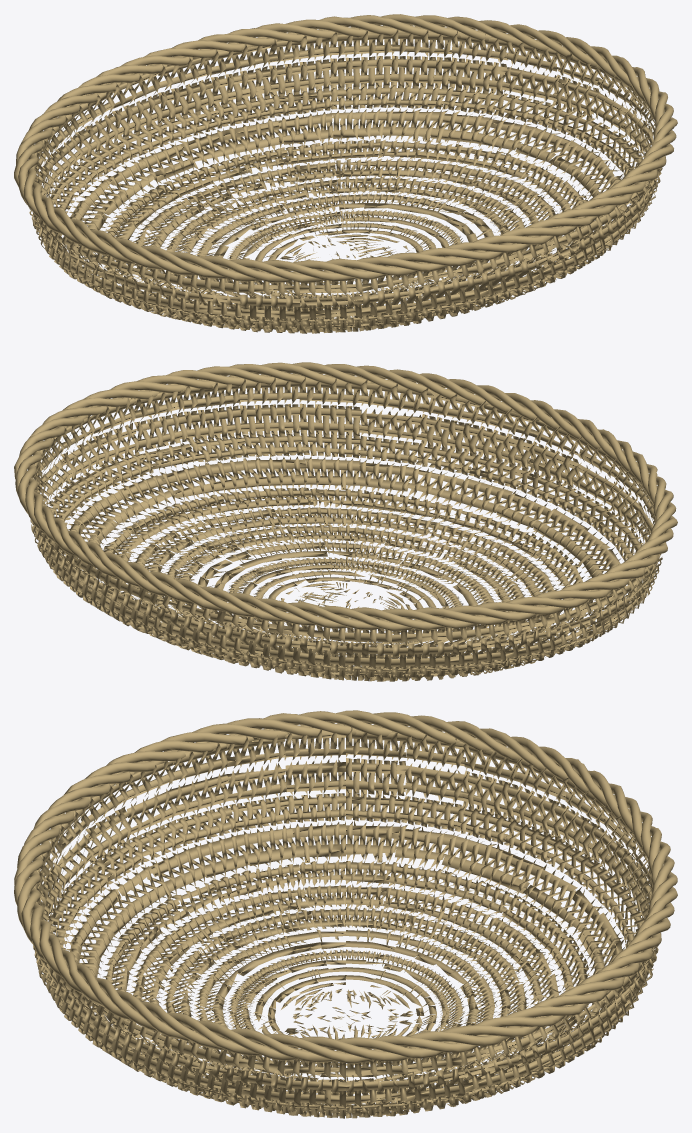
3 views of the same model, one above another, from view 1: azimuth 30°, elevation 25°; view 2: azimuth 150°, elevation 25°; view 3: azimuth 270°, elevation 25° (orthographic). The views are drawn at different scales.
Visible parts, largest first — view 1: keranjang, list-keranjang; view 2: keranjang, list-keranjang; view 3: keranjang, list-keranjang.
Boxes of the visible parts, <box> form: keranjang: <box>27,27,662,333</box>; list-keranjang: <box>14,14,677,282</box>; keranjang: <box>30,377,664,681</box>; list-keranjang: <box>14,362,677,631</box>; keranjang: <box>32,725,661,1118</box>; list-keranjang: <box>14,710,677,1063</box>.
Size of the model in its own units: 0.4 by 0.0795 by 0.3325.
